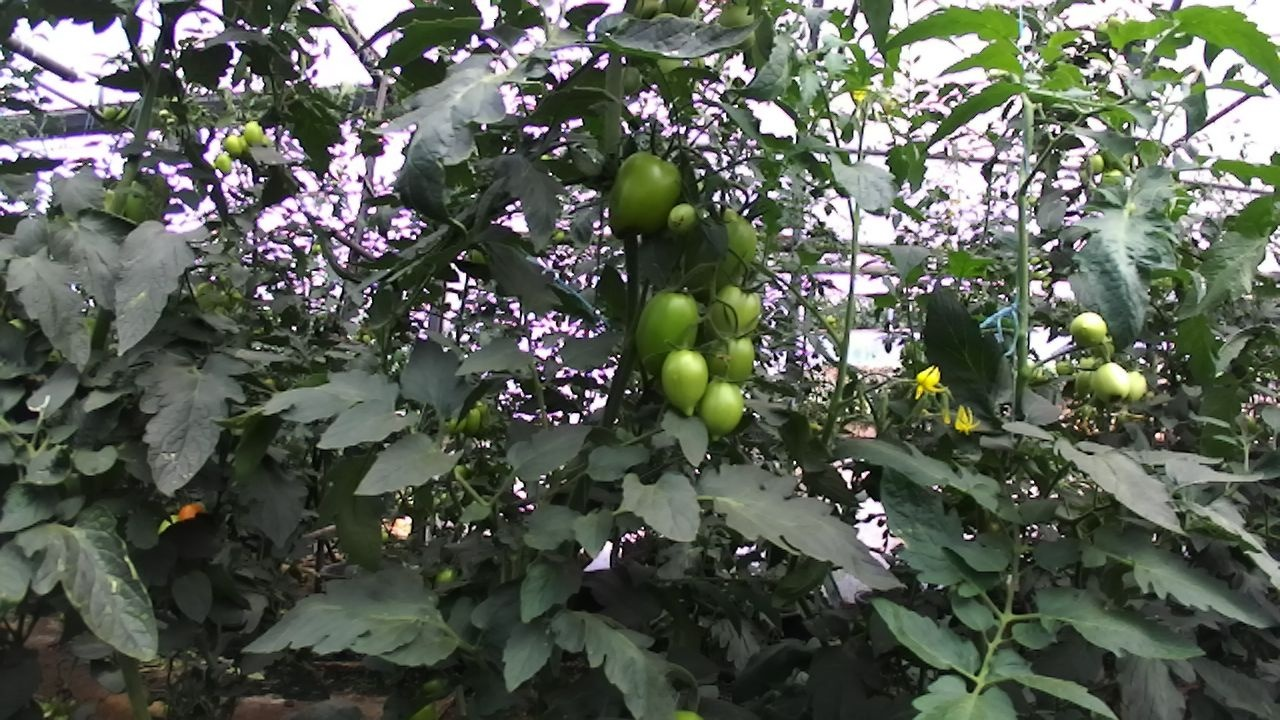tomato: (678, 185, 774, 329), (599, 134, 695, 250), (627, 277, 714, 389), (650, 333, 719, 426), (694, 323, 772, 400), (702, 275, 768, 353), (693, 369, 757, 447), (1054, 300, 1127, 360), (649, 183, 708, 249), (1087, 358, 1137, 412), (1112, 363, 1153, 410), (1067, 365, 1104, 404), (237, 115, 267, 152), (216, 128, 246, 162), (1082, 146, 1111, 180), (209, 148, 236, 178)
